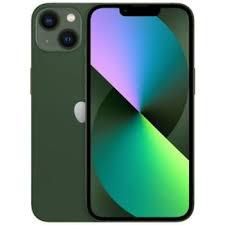Smartphone: (99, 0, 189, 216), (28, 9, 97, 220)
